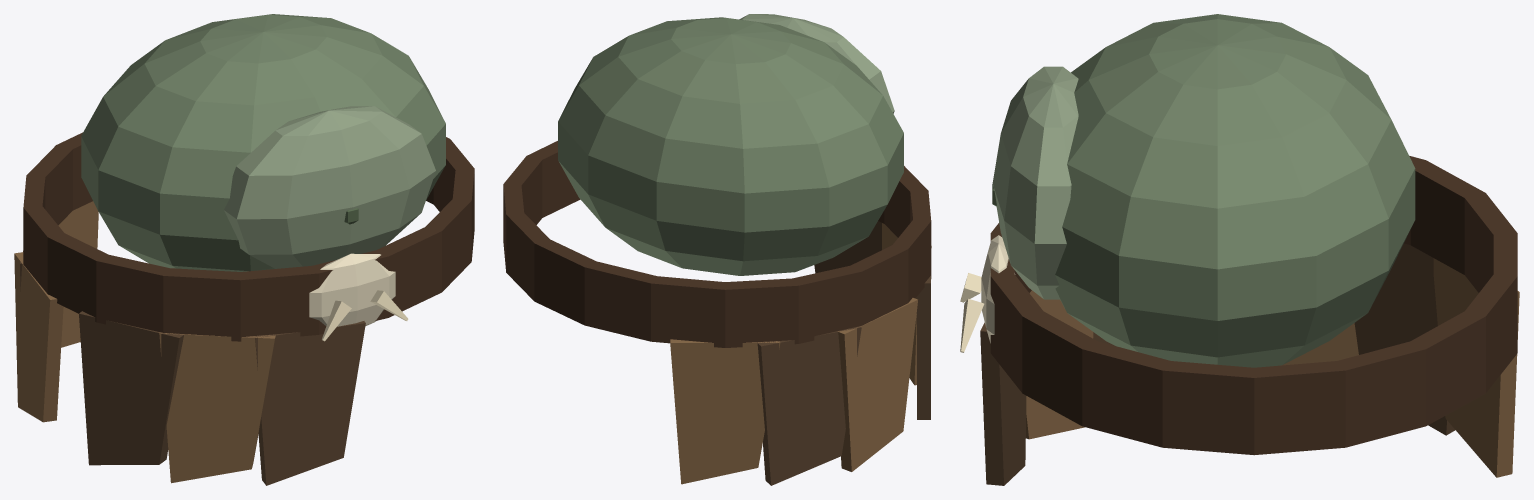
The model's file is stonebrow_warlord_belly.glb.
The picture shows the model from 3 angles, left to right: view 1: azimuth 30°, elevation 25°; view 2: azimuth 150°, elevation 25°; view 3: azimuth 270°, elevation 25°; orthographic projection. The views are drawn at different scales.
Parts seen in each view (by area): view 1: stonebrow_warlord_belly; view 2: stonebrow_warlord_belly; view 3: stonebrow_warlord_belly.
Part boxes in pixels (x1,y1,x2,y2): stonebrow_warlord_belly: [14, 14, 474, 485]; stonebrow_warlord_belly: [503, 14, 931, 485]; stonebrow_warlord_belly: [960, 14, 1519, 485].
Bounding box in the file's own units: 0.9696 × 0.85 × 0.92.
